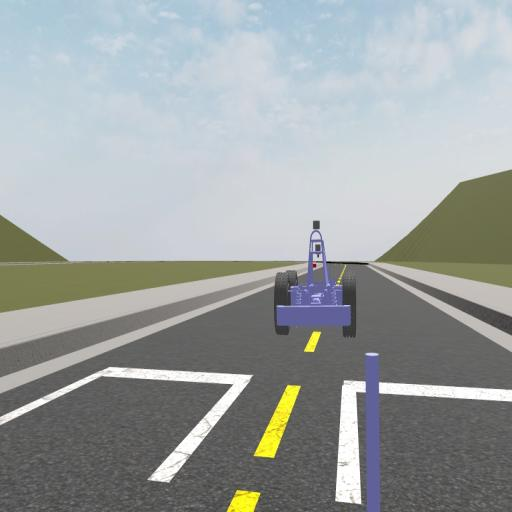ERP-42: (274, 220, 356, 336)
